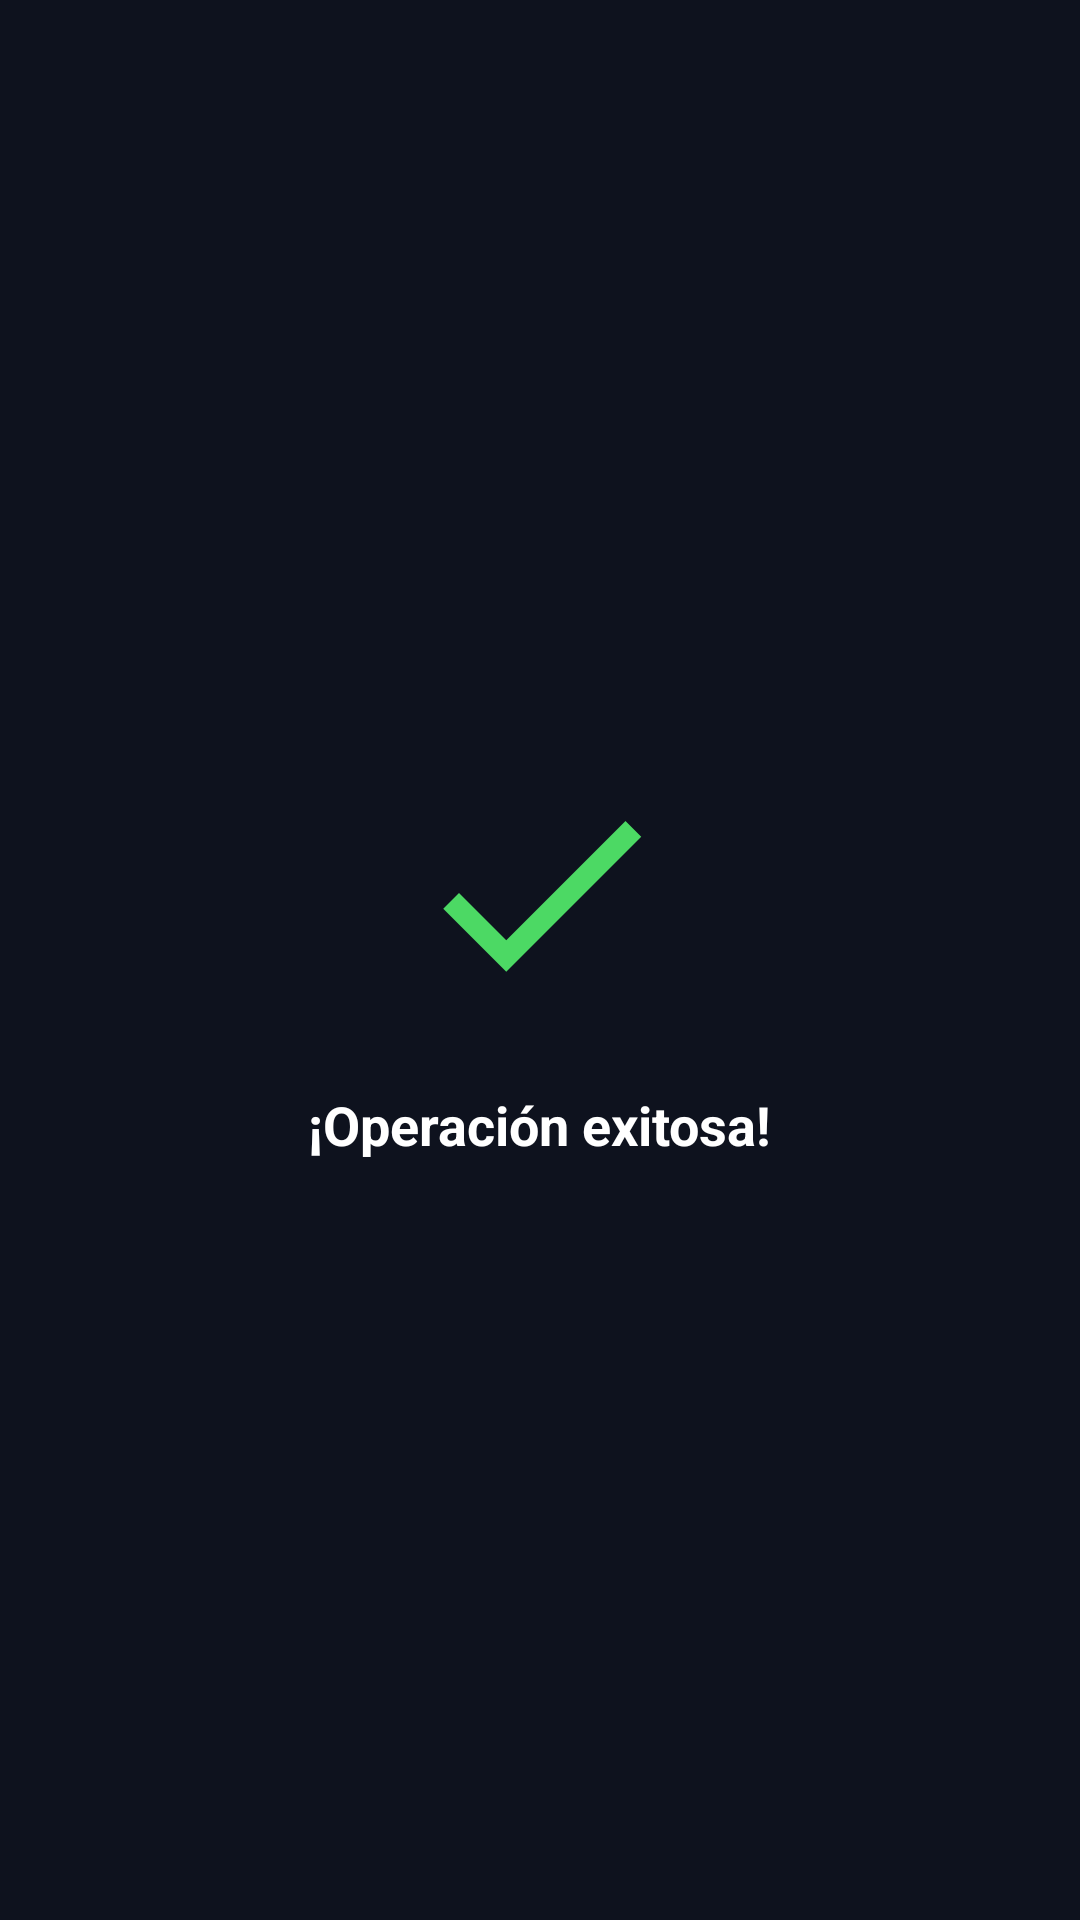

Icon bounding boxes for this 1080×1920 phone screenshot, format [x1,y1,x2,y2]:
check: [443,821,641,972]
